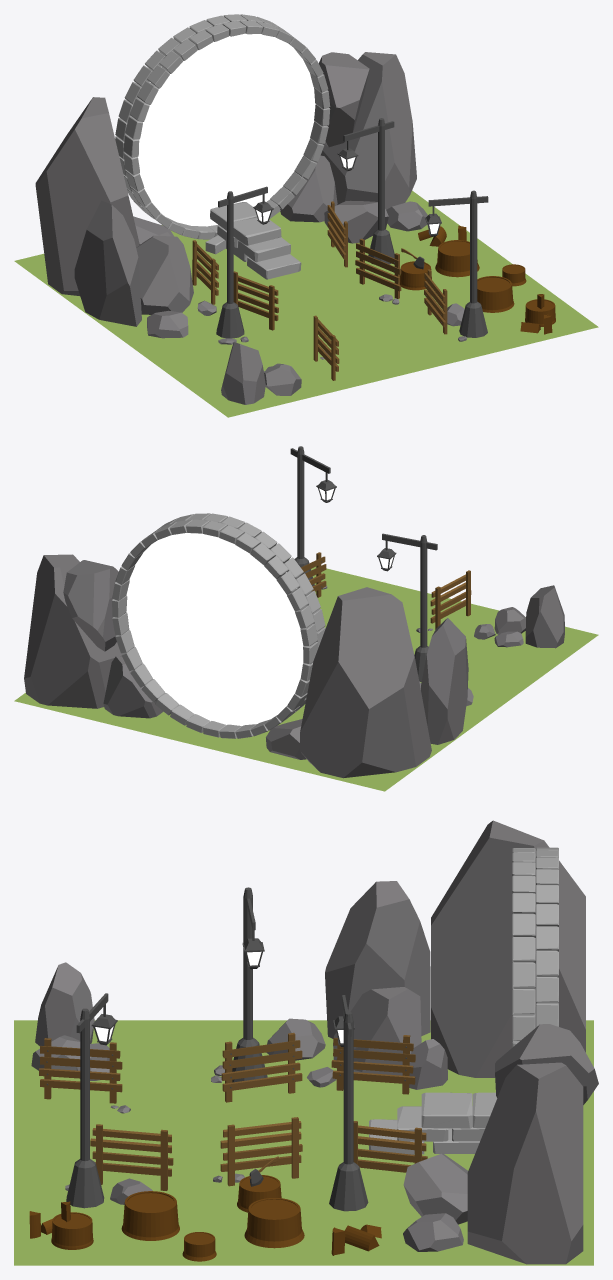
Rendered from portal.glb.
3 renders of one model, top to bottom at view 1: azimuth 30°, elevation 25°; view 2: azimuth 150°, elevation 25°; view 3: azimuth 270°, elevation 25°, orthographic. The views are drawn at different scales.
Parts seen in each view (by area): view 1: baked, portal; view 2: baked, portal; view 3: baked.
Boxes of the visible parts, <box> form: baked: <box>14,14,598,417</box>; portal: <box>138,33,315,226</box>; baked: <box>14,446,598,791</box>; portal: <box>126,533,303,725</box>; baked: <box>14,820,598,1265</box>.
Size of the model in its own units: 4.01 by 2.15 by 4.03.
